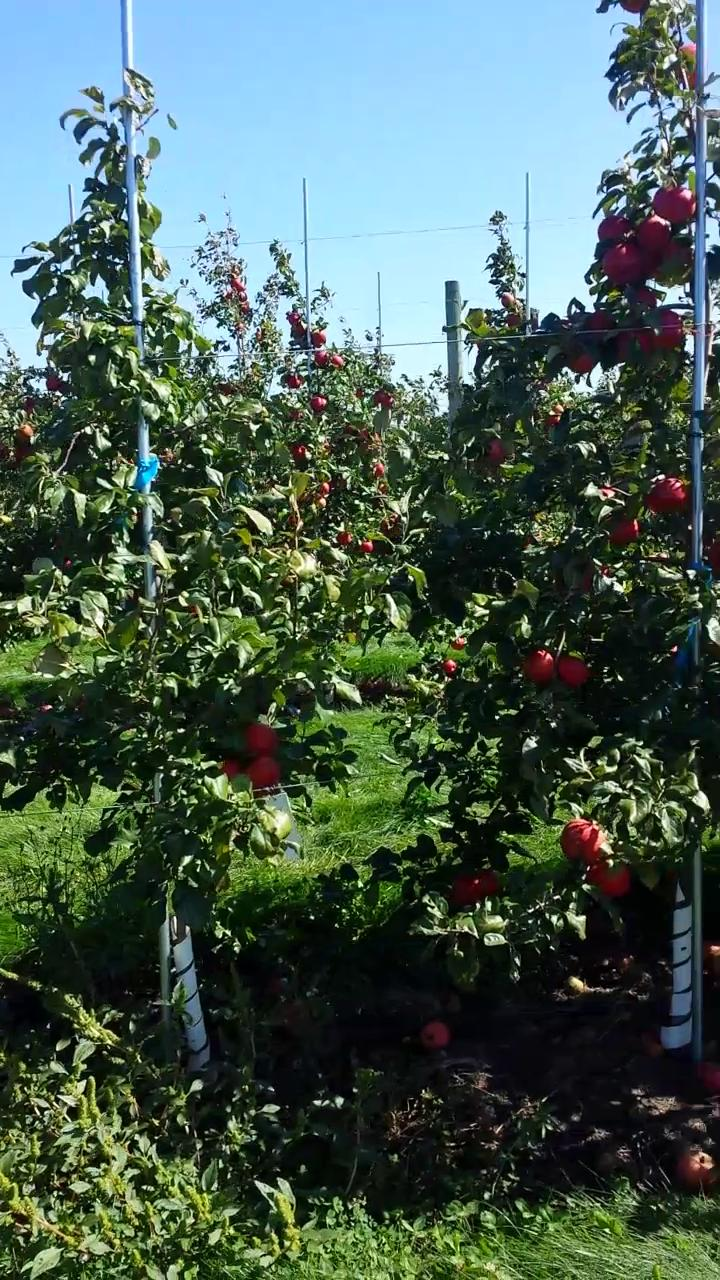Apple: (584, 855, 631, 899), (654, 183, 696, 225), (643, 309, 684, 351), (672, 44, 710, 89), (604, 242, 642, 285), (645, 476, 688, 514), (560, 819, 597, 863), (634, 215, 673, 253), (615, 328, 652, 363), (245, 720, 279, 756), (524, 647, 554, 687), (623, 287, 658, 320), (660, 242, 692, 278), (584, 308, 618, 341), (557, 655, 590, 689), (601, 515, 639, 544), (598, 215, 634, 245), (247, 755, 280, 787), (578, 558, 608, 593), (581, 830, 611, 865), (565, 344, 599, 374), (451, 874, 486, 901), (214, 758, 247, 785), (479, 437, 509, 466), (702, 533, 719, 579), (538, 402, 564, 428), (639, 252, 661, 277), (595, 487, 620, 508), (478, 868, 498, 894), (619, 0, 655, 14)
